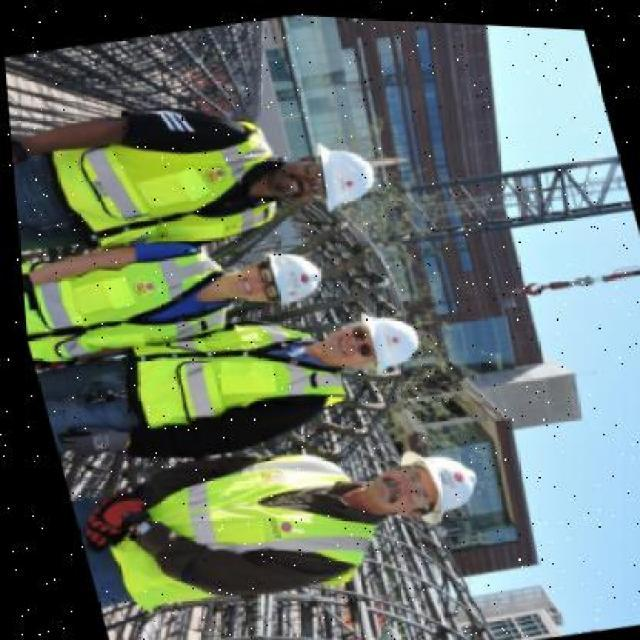helmet: (373, 429, 484, 531), (285, 123, 385, 217), (331, 294, 429, 382), (239, 232, 327, 312)
vest: (72, 427, 390, 630), (34, 100, 296, 270), (107, 300, 337, 444), (15, 231, 247, 373)
